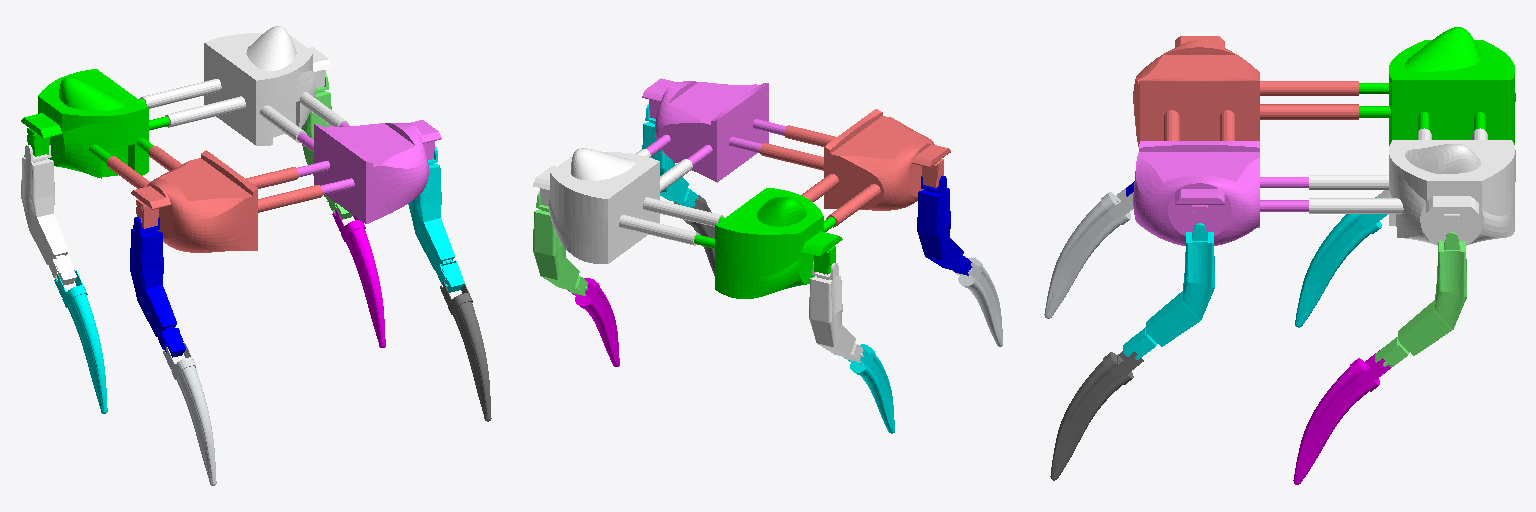
robot.urdf — Robot:
<?xml version="1.0" encoding="utf-8"?>
<!-- This URDF was automatically created by SolidWorks to URDF Exporter! Originally created by [author] ([email redacted]) 
     Commit Version: 1.5.1-0-g916b5db  Build Version: 1.5.7152.31018
     For more information, please see http://wiki.ros.org/sw_urdf_exporter -->
<robot
  name="Robot">
  <link
    name="NodeFL">
    <inertial>
      <origin
        xyz="-0.083675 0.0046599 0.04667"
        rpy="0 0 0" />
      <mass
        value="3.5578" />
      <inertia
        ixx="0.013212"
        ixy="-6.3498E-05"
        ixz="-0.00039742"
        iyy="0.010095"
        iyz="1.6695E-06"
        izz="0.016172" />
    </inertial>
    <visual>
      <origin
        xyz="0 0 0"
        rpy="0 0 0" />
      <geometry>
        <mesh
          filename="package://STL/Render/NodeFL.STL" />
      </geometry>
      <material
        name="NodeFRBase">
        <color
          rgba="1 .5 1 1" />
      </material>
    </visual>
    <collision>
      <origin
        xyz="0 0 0"
        rpy="0 0 0" />
      <geometry>
        <mesh
          filename="package://STL/Simple/NodeFL.STL" />
      </geometry>
    </collision>
  </link>
  <link
    name="LegFLtop">
    <inertial>
      <origin
        xyz="0.047937 -0.11059 0.024739"
        rpy="0 0 0" />
      <mass
        value="0.41495" />
      <inertia
        ixx="0.0010583"
        ixy="0.00019751"
        ixz="4.9968E-08"
        iyy="0.00020265"
        iyz="1.9702E-08"
        izz="0.0011571" />
    </inertial>
    <visual>
      <origin
        xyz="0 0 0"
        rpy="0 0 0" />
      <geometry>
        <mesh
          filename="package://STL/Render/LegFLtop.STL" />
      </geometry>
      <material
        name="LegFLTop">
        <color
          rgba="0 1 1 1" />
      </material>
    </visual>
    <collision>
      <origin
        xyz="0 0 0"
        rpy="0 0 0" />
      <geometry>
        <mesh
          filename="package://STL/Simple/LegFLtop.STL" />
      </geometry>
    </collision>
  </link>
  <joint
    name="LegFLtopJoint"
    type="revolute">
    <origin
      xyz="0.00085062 0.0033885 0.050662"
      rpy="1.5708 0.5901 1.5708" />
    <parent
      link="NodeFL" />
    <child
      link="LegFLtop" />
    <axis
      xyz="0 0 1" />
    <limit
      lower="-1.5"
      upper="1.5"
      effort="1.667"
      velocity="6.25" />
  </joint>
  <link
    name="LegFLbottom">
    <inertial>
      <origin
        xyz="0.02 0.34874 0.022133"
        rpy="0 0 0" />
      <mass
        value="0.18815" />
      <inertia
        ixx="0.0006376"
        ixy="6.6863E-10"
        ixz="-5.2001E-11"
        iyy="4.4092E-05"
        iyz="-2.2131E-05"
        izz="0.00061305" />
    </inertial>
    <visual>
      <origin
        xyz="0 0 0"
        rpy="-3.14 0 0" />
      <geometry>
        <mesh
          filename="package://STL/Render/LegFLbottom.STL" />
      </geometry>
      <material
        name="LegFLbottom">
        <color
          rgba="0.5 0.5 0.5 1" />
      </material>
    </visual>
    <collision>
      <origin
        xyz="0 0 0"
        rpy="-3.14 0 0" />
      <geometry>
        <mesh
          filename="package://STL/Simple/LegFLbottom.STL" />
      </geometry>
    </collision>
  </link>
  <joint
    name="LegFLbottomJoint"
    type="revolute">
    <origin
      xyz="0 0 0.004743"
      rpy="0.010584 -1.5708 0.010584" />
    <parent
      link="LegFLtop" />
    <child
      link="LegFLbottom" />
    <axis
      xyz="1 0 0" />
    <limit
      lower="-1.5"
      upper="1.5"
      effort="1.667"
      velocity="6.25" />
  </joint>
  <link
    name="NodeFR">
    <inertial>
      <origin
        xyz="0.010522 -0.22855 -0.045204"
        rpy="0 0 0" />
      <mass
        value="3.5744" />
      <inertia
        ixx="0.016182"
        ixy="-0.00038119"
        ixz="0.0010331"
        iyy="0.013312"
        iyz="-0.00013007"
        izz="0.010372" />
    </inertial>
    <visual>
      <origin
        xyz="0 0 0"
        rpy="0 0 0" />
      <geometry>
        <mesh
          filename="package://STL/Render/NodeFR.STL" />
      </geometry>
      <material
        name="NodeFR">
        <color
          rgba="1 0.5 0.5 1" />
      </material>
    </visual>
    <collision>
      <origin
        xyz="0 0 0"
        rpy="0 0 0" />
      <geometry>
        <mesh
          filename="package://STL/Simple/NodeFR.STL" />
      </geometry>
    </collision>
  </link>
  <joint
    name="NodeFRtoFL"
    type="prismatic">
    <origin
      xyz="-0.22314 -0.041066 0.049378"
      rpy="3.1416 1.4002 1.5708" />
    <parent
      link="NodeFL" />
    <child
      link="NodeFR" />
    <axis
      xyz="0 1 0" />
    <limit
      lower="-1"
      upper="1"
      effort="1.667"
      velocity="0" />
  </joint>
  <link
    name="LegFRtop">
    <inertial>
      <origin
        xyz="0.053647 -0.10777 -0.024774"
        rpy="0 0 0" />
      <mass
        value="0.41495" />
      <inertia
        ixx="0.0010335"
        ixy="0.00024421"
        ixz="-2.2119E-08"
        iyy="0.00022746"
        iyz="9.361E-08"
        izz="0.0011571" />
    </inertial>
    <visual>
      <origin
        xyz="0 0 0"
        rpy="0 0 0" />
      <geometry>
        <mesh
          filename="package://STL/Render/LegFRtop.STL" />
      </geometry>
      <material
        name="LegFRtop">
        <color
          rgba="0 0 1 1" />
      </material>
    </visual>
    <collision>
      <origin
        xyz="0 0 0"
        rpy="0 0 0" />
      <geometry>
        <mesh
          filename="package://STL/Simple/LegFRtop.STL" />
      </geometry>
    </collision>
  </link>
  <joint
    name="LegFRtopJoint"
    type="revolute">
    <origin
      xyz="0.0067323 -0.31401 -0.046653"
      rpy="-1.5708 0.75396 0" />
    <parent
      link="NodeFR" />
    <child
      link="LegFRtop" />
    <axis
      xyz="0 0 1" />
    <limit
      lower="-1.5"
      upper="1.5"
      effort="1.667"
      velocity="6.25" />
  </joint>
  <link
    name="LegFRbottom">
    <inertial>
      <origin
        xyz="0.02 0.34598 -0.0004487"
        rpy="0 0 0" />
      <mass
        value="0.18815" />
      <inertia
        ixx="0.0006376"
        ixy="-6.6391E-10"
        ixz="-9.4871E-11"
        iyy="4.3603E-05"
        iyz="-1.4548E-05"
        izz="0.00061354" />
    </inertial>
    <visual>
      <origin
        xyz="0 0 0"
        rpy="0 0 0" />
      <geometry>
        <mesh
          filename="package://STL/Render/LegFRbottom.STL" />
      </geometry>
      <material
        name="LegFRbottom">
        <color
          rgba="0.89804 0.91765 0.92941 1" />
      </material>
    </visual>
    <collision>
      <origin
        xyz="0 0 0"
        rpy="0 0 0" />
      <geometry>
        <mesh
          filename="package://STL/Simple/LegFRbottom.STL" />
      </geometry>
    </collision>
  </link>
  <joint
    name="LegFRbottomJoint"
    type="revolute">
    <origin
      xyz="0 0 -0.004743"
      rpy="3.0317 1.5708 0" />
    <parent
      link="LegFRtop" />
    <child
      link="LegFRbottom" />
    <axis
      xyz="-1 0 0" />
    <limit
      lower="-1.5"
      upper="1.5"
      effort="1.667"
      velocity="6.25" />
  </joint>
  <link
    name="NodeBR">
    <inertial>
      <origin
        xyz="0.013605 -0.19633 -0.0379"
        rpy="0 0 0" />
      <mass
        value="3.796" />
      <inertia
        ixx="0.015744"
        ixy="0.00031531"
        ixz="0.00088543"
        iyy="0.01188"
        iyz="1.0411E-06"
        izz="0.015161" />
    </inertial>
    <visual>
      <origin
        xyz="0 0 0"
        rpy="0 0 0" />
      <geometry>
        <mesh
          filename="package://STL/Render/NodeBR.STL" />
      </geometry>
      <material
        name="NodeBR">
        <color
          rgba="0 1 0 1" />
      </material>
    </visual>
    <collision>
      <origin
        xyz="0 0 0"
        rpy="0 0 0" />
      <geometry>
        <mesh
          filename="package://STL/Simple/NodeBR.STL" />
      </geometry>
    </collision>
  </link>
  <joint
    name="NodeBRtoFR"
    type="prismatic">
    <origin
      xyz="0.042552 -0.2667 -0.24704"
      rpy="1.507 -0.15828 0.38525" />
    <parent
      link="NodeFR" />
    <child
      link="NodeBR" />
    <axis
      xyz="0 1 0" />
    <limit
      lower="0"
      upper="0"
      effort="1.667"
      velocity="0" />
  </joint>
  <link
    name="LegBRtop">
    <inertial>
      <origin
        xyz="0.024372 -0.11789 -0.024774"
        rpy="0 0 0" />
      <mass
        value="0.41495" />
      <inertia
        ixx="0.0011015"
        ixy="1.3546E-05"
        ixz="2.4998E-09"
        iyy="0.00015944"
        iyz="9.6156E-08"
        izz="0.0011571" />
    </inertial>
    <visual>
      <origin
        xyz="0 0 0"
        rpy="0 0 0" />
      <geometry>
        <mesh
          filename="package://STL/Render/LegBRtop.STL" />
      </geometry>
      <material
        name="LegBRtop">
        <color
          rgba="1 1 1 1" />
      </material>
    </visual>
    <collision>
      <origin
        xyz="0 0 0"
        rpy="0 0 0" />
      <geometry>
        <mesh
          filename="package://STL/Simple/LegBRtop.STL" />
      </geometry>
    </collision>
  </link>
  <joint
    name="LegBRtopJoint"
    type="revolute">
    <origin
      xyz="-0.0042984 -0.19589 0.049227"
      rpy="-2.7873 -0.14095 -1.2078" />
    <parent
      link="NodeBR" />
    <child
      link="LegBRtop" />
    <axis
      xyz="0 0 1" />
    <limit
      lower="-1.5"
      upper="1.5"
      effort="1.667"
      velocity="6.25" />
  </joint>
  <link
    name="LegBRbottom">
    <inertial>
      <origin
        xyz="-0.33522 -0.085642 0.02"
        rpy="0 0 0" />
      <mass
        value="0.18815" />
      <inertia
        ixx="8.589E-05"
        ixy="-0.00015008"
        ixz="6.1943E-10"
        iyy="0.00057125"
        iyz="2.5706E-10"
        izz="0.0006376" />
    </inertial>
    <visual>
      <origin
        xyz="0 0 0"
        rpy="0 0 0" />
      <geometry>
        <mesh
          filename="package://STL/Render/LegBRbottom.STL" />
      </geometry>
      <material
        name="LegBRbottom">
        <color
          rgba="0 1 1 1" />
      </material>
    </visual>
    <collision>
      <origin
        xyz="0 0 0"
        rpy="0 0 0" />
      <geometry>
        <mesh
          filename="package://STL/Simple/LegBRbottom.STL" />
      </geometry>
    </collision>
  </link>
  <joint
    name="LegBRbottomJoint"
    type="revolute">
    <origin
      xyz="0 0 -0.004743"
      rpy="3.1416 0 1.6741" />
    <parent
      link="LegBRtop" />
    <child
      link="LegBRbottom" />
    <axis
      xyz="0 0 -1" />
    <limit
      lower="-1.5"
      upper="1.5"
      effort="1.667"
      velocity="6.25" />
  </joint>
  <link
    name="NodeBL">
    <inertial>
      <origin
        xyz="0 0 0"
        rpy="0 0 0" />
      <mass
        value="0" />
      <inertia
        ixx="0"
        ixy="0"
        ixz="0"
        iyy="0"
        iyz="0"
        izz="0" />
    </inertial>
    <visual>
      <origin
        xyz="0 0 0"
        rpy="0 0 0" />
      <geometry>
        <mesh
          filename="package://STL/Render/NodeBL.STL" />
      </geometry>
      <material
        name="NodeBL">
        <color
          rgba="1 1 1 1" />
      </material>
    </visual>
    <collision>
      <origin
        xyz="0 0 0"
        rpy="0 0 0" />
      <geometry>
        <mesh
          filename="package://STL/Simple/NodeBL.STL" />
      </geometry>
    </collision>
  </link>
  <joint
    name="NodeBLtoFL"
    type="prismatic">
    <origin
      xyz="-0.30641 0.40561 0.046076"
      rpy="1.5708 0 0" />
    <parent
      link="NodeFL" />
    <child
      link="NodeBL" />
    <axis
      xyz="0 0 1" />
    <limit
      lower="0"
      upper="0"
      effort="1.667"
      velocity="0" />
  </joint>
  <link
    name="LegBLtop">
    <inertial>
      <origin
        xyz="0.043847 -0.11228 0.024739"
        rpy="0 0 0" />
      <mass
        value="0.41495" />
      <inertia
        ixx="0.0010716"
        ixy="0.00016561"
        ixz="5.0658E-08"
        iyy="0.00018932"
        iyz="1.7856E-08"
        izz="0.0011571" />
    </inertial>
    <visual>
      <origin
        xyz="0 0 0"
        rpy="0 0 0" />
      <geometry>
        <mesh
          filename="package://STL/Render/LegBLtop.STL" />
      </geometry>
      <material
        name="LegBLtop">
        <color
          rgba=".5 1 .5 1" />
      </material>
    </visual>
    <collision>
      <origin
        xyz="0 0 0"
        rpy="0 0 0" />
      <geometry>
        <mesh
          filename="package://STL/Simple/LegBLtop.STL" />
      </geometry>
    </collision>
  </link>
  <joint
    name="LegBLtopJoint"
    type="revolute">
    <origin
      xyz="0.30766 -0.010974 9.8262E-05"
      rpy="-1.5708 1.0174 -1.5708" />
    <parent
      link="NodeBL" />
    <child
      link="LegBLtop" />
    <axis
      xyz="0 0 1" />
    <limit
      lower="-1.5"
      upper="1.5"
      effort="1.667"
      velocity="6.25" />
  </joint>
  <link
    name="LegBLbottom">
    <inertial>
      <origin
        xyz="-0.34924 0.011628 -0.02"
        rpy="0 0 0" />
      <mass
        value="0.18815" />
      <inertia
        ixx="4.3276E-05"
        ixy="4.9763E-06"
        ixz="6.6678E-10"
        iyy="0.00061386"
        iyz="7.2097E-11"
        izz="0.0006376" />
    </inertial>
    <visual>
      <origin
        xyz="0 0 0"
        rpy="0 0 0" />
      <geometry>
        <mesh
          filename="package://STL/Render/LegBLbottom.STL" />
      </geometry>
      <material
        name="LegBLbottom">
        <color
          rgba="1 0 1 1" />
      </material>
    </visual>
    <collision>
      <origin
        xyz="0 0 0"
        rpy="0 0 0" />
      <geometry>
        <mesh
          filename="package://STL/Simple/LegBLbottom.STL" />
      </geometry>
    </collision>
  </link>
  <joint
    name="LegBLbottomJoint"
    type="revolute">
    <origin
      xyz="0 0 0.004743"
      rpy="3.1416 0 1.5536" />
    <parent
      link="LegBLtop" />
    <child
      link="LegBLbottom" />
    <axis
      xyz="0 0 -1" />
    <limit
      lower="-1.5"
      upper="1.5"
      effort="1.667"
      velocity="6.25" />
  </joint>
</robot>

--- What the picture shows (computed from the rendered views, not written in the file) ---
The picture shows the robot from 3 angles, left to right: view 1: azimuth 30°, elevation 25°; view 2: azimuth 150°, elevation 25°; view 3: azimuth 270°, elevation 25°; orthographic projection.
Robot: Robot — 12 links, 11 joints (8 revolute, 3 prismatic); root link NodeFL; default pose: all joints at 0.
Visible links, largest first — view 1: NodeBL, NodeFR, NodeBR, NodeFL, LegFRtop, LegBRtop, LegFLtop, LegFRbottom, LegBRbottom, LegFLbottom, LegBLbottom, LegBLtop; view 2: NodeBL, NodeFR, NodeBR, NodeFL, LegFRtop, LegBRtop, LegBLtop, LegBRbottom, LegBLbottom, LegFRbottom, LegFLtop, LegFLbottom; view 3: NodeBL, NodeFR, NodeFL, NodeBR, LegFLtop, LegBLtop, LegBLbottom, LegFLbottom, LegFRbottom, LegBRbottom.
Link boxes in pixels (x1,y1,x2,y2): NodeBL: (140, 26, 348, 145); NodeFR: (106, 146, 322, 252); NodeBR: (21, 69, 169, 178); NodeFL: (296, 120, 441, 223); LegFRtop: (130, 217, 185, 357); LegBRtop: (21, 145, 76, 285); LegFLtop: (408, 146, 464, 292); LegFRbottom: (163, 342, 216, 485); LegBRbottom: (54, 270, 107, 413); LegFLbottom: (440, 277, 491, 421); LegBLbottom: (332, 209, 385, 347); LegBLtop: (301, 74, 352, 219); NodeBL: (533, 148, 723, 263); NodeFR: (760, 109, 950, 227); NodeBR: (694, 188, 842, 298); NodeFL: (642, 78, 786, 182); LegFRtop: (917, 176, 971, 275); LegBRtop: (809, 262, 862, 362); LegBLtop: (533, 191, 587, 295); LegBRbottom: (844, 344, 894, 433); LegBLbottom: (568, 278, 619, 366); LegFRbottom: (952, 257, 1002, 346); LegFLtop: (642, 104, 698, 207); LegFLbottom: (674, 195, 714, 275); NodeBL: (1309, 128, 1515, 245); NodeFR: (1133, 36, 1358, 146); NodeFL: (1133, 141, 1308, 245); NodeBR: (1359, 27, 1515, 145); LegFLtop: (1123, 223, 1214, 359); LegBLtop: (1375, 232, 1466, 367); LegBLbottom: (1293, 350, 1390, 484); LegFLbottom: (1050, 351, 1143, 480); LegFRbottom: (1044, 184, 1133, 318); LegBRbottom: (1295, 191, 1387, 327).
Size in the robot's own frame: 0.6371 by 0.7511 by 0.5626 metres.
12 mesh visuals loaded from 12 distinct referenced files (12 binary STL).